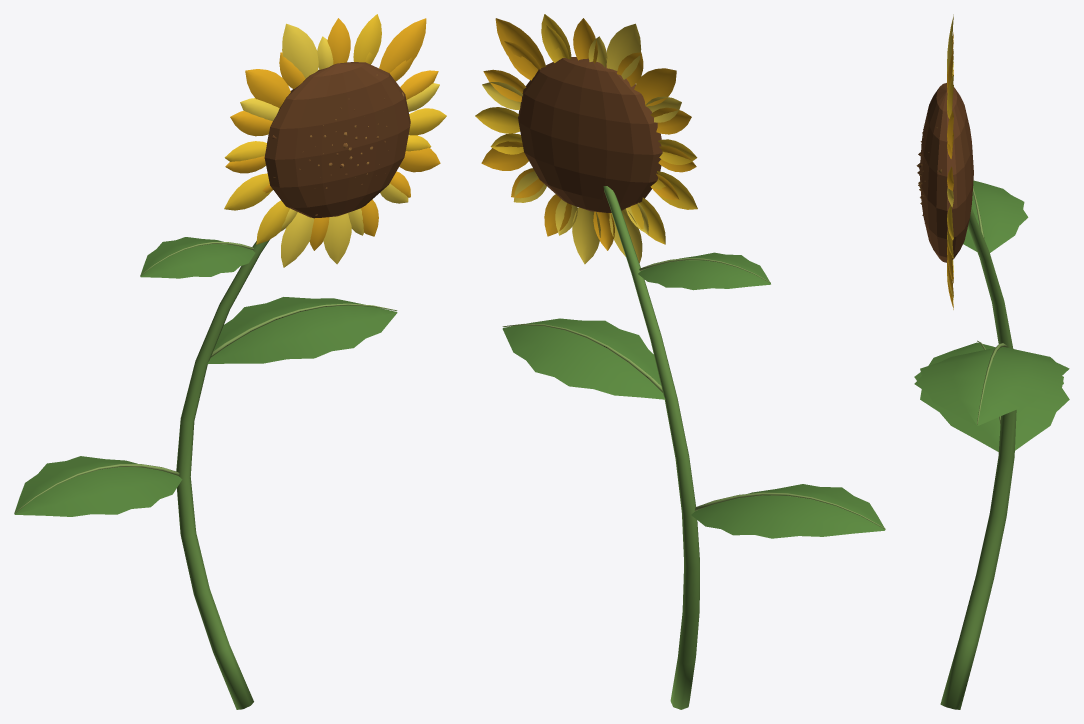
Rendered from sunflower-test-bloom-2-3.glb.
3 views of the same model, side by side, from view 1: azimuth 30°, elevation 25°; view 2: azimuth 150°, elevation 25°; view 3: azimuth 270°, elevation 25° (orthographic). The views are drawn at different scales.
Parts seen in each view (by area): view 1: Curved tapered stem; view 2: Curved tapered stem; view 3: Curved tapered stem.
Part boxes in pixels (x1,y1,x2,y2): Curved tapered stem: [14, 14, 446, 709]; Curved tapered stem: [475, 14, 885, 709]; Curved tapered stem: [914, 14, 1069, 709].
Bounding box in the file's own units: 0.4397 × 0.6712 × 0.1317.
